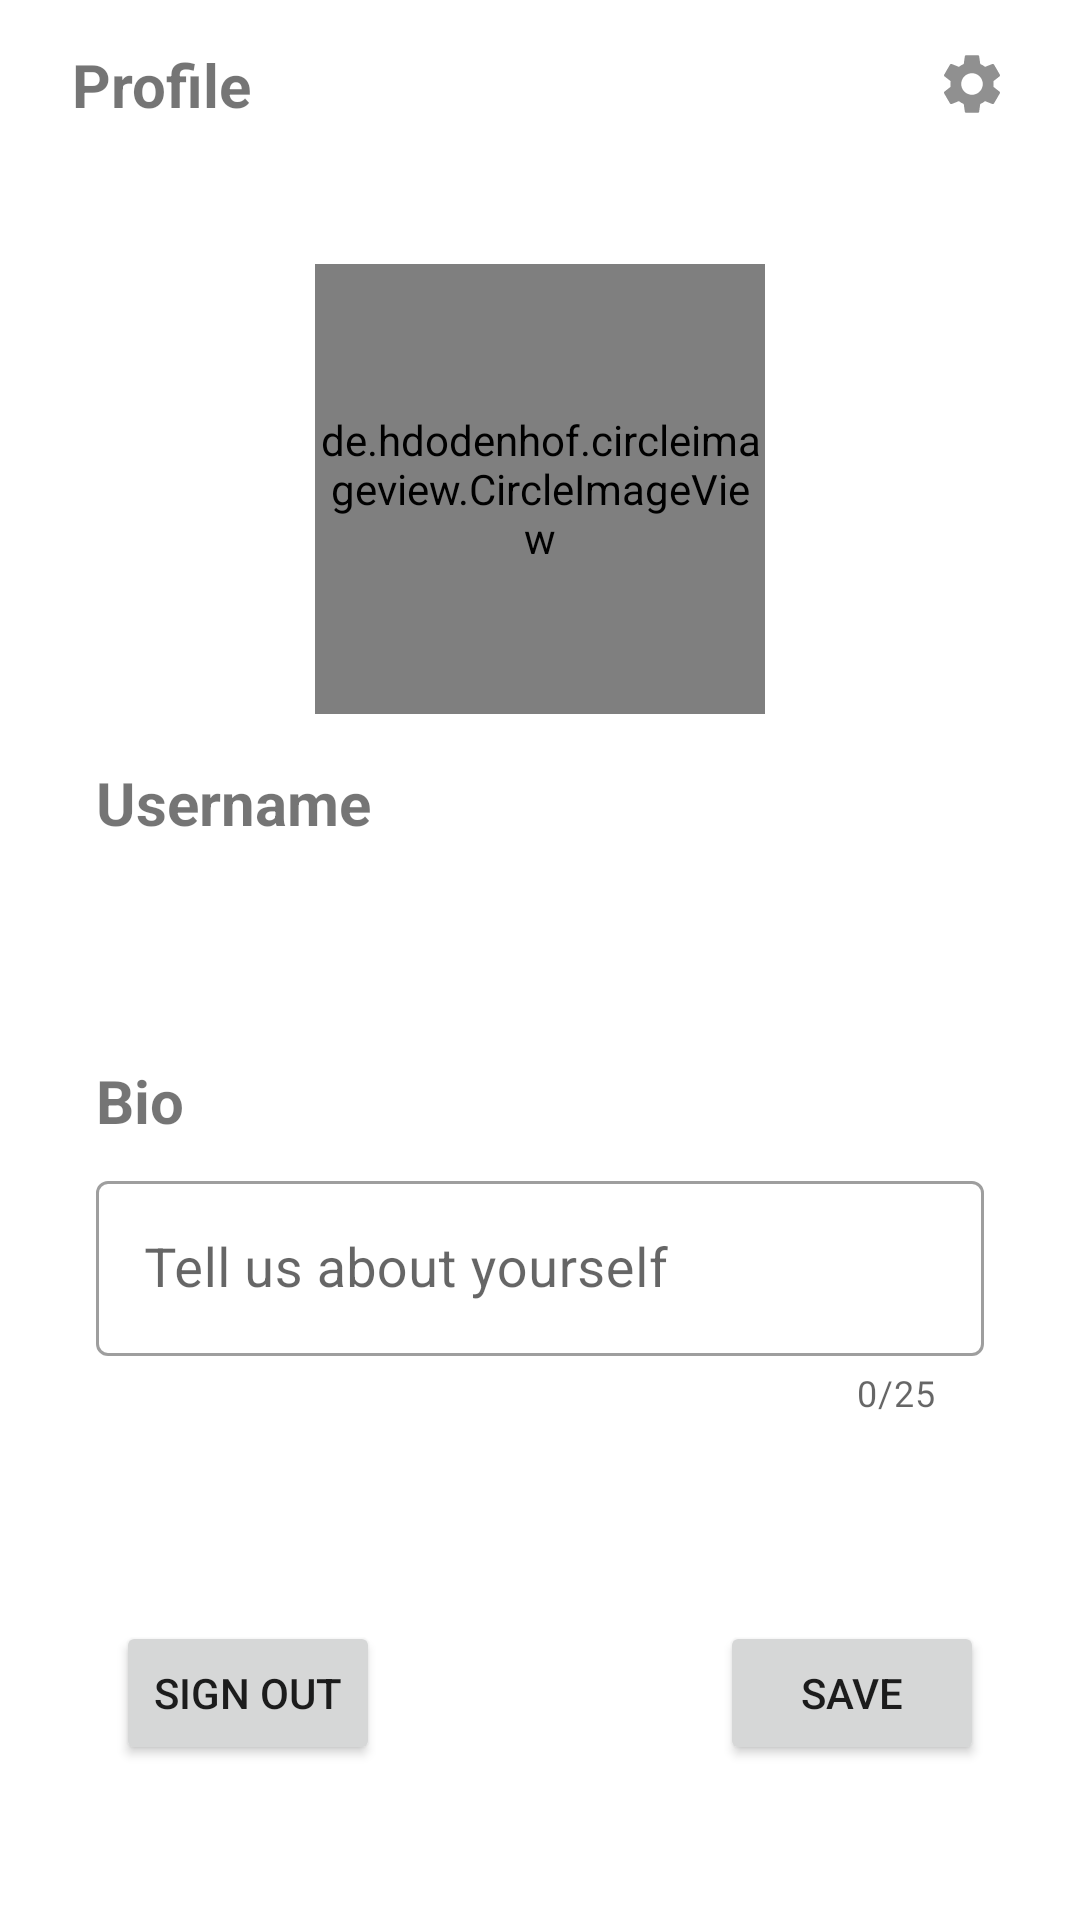

Icon click points for this 1080px x 1920px phone screenshot, format point (x, y):
settings: point (972, 84)
